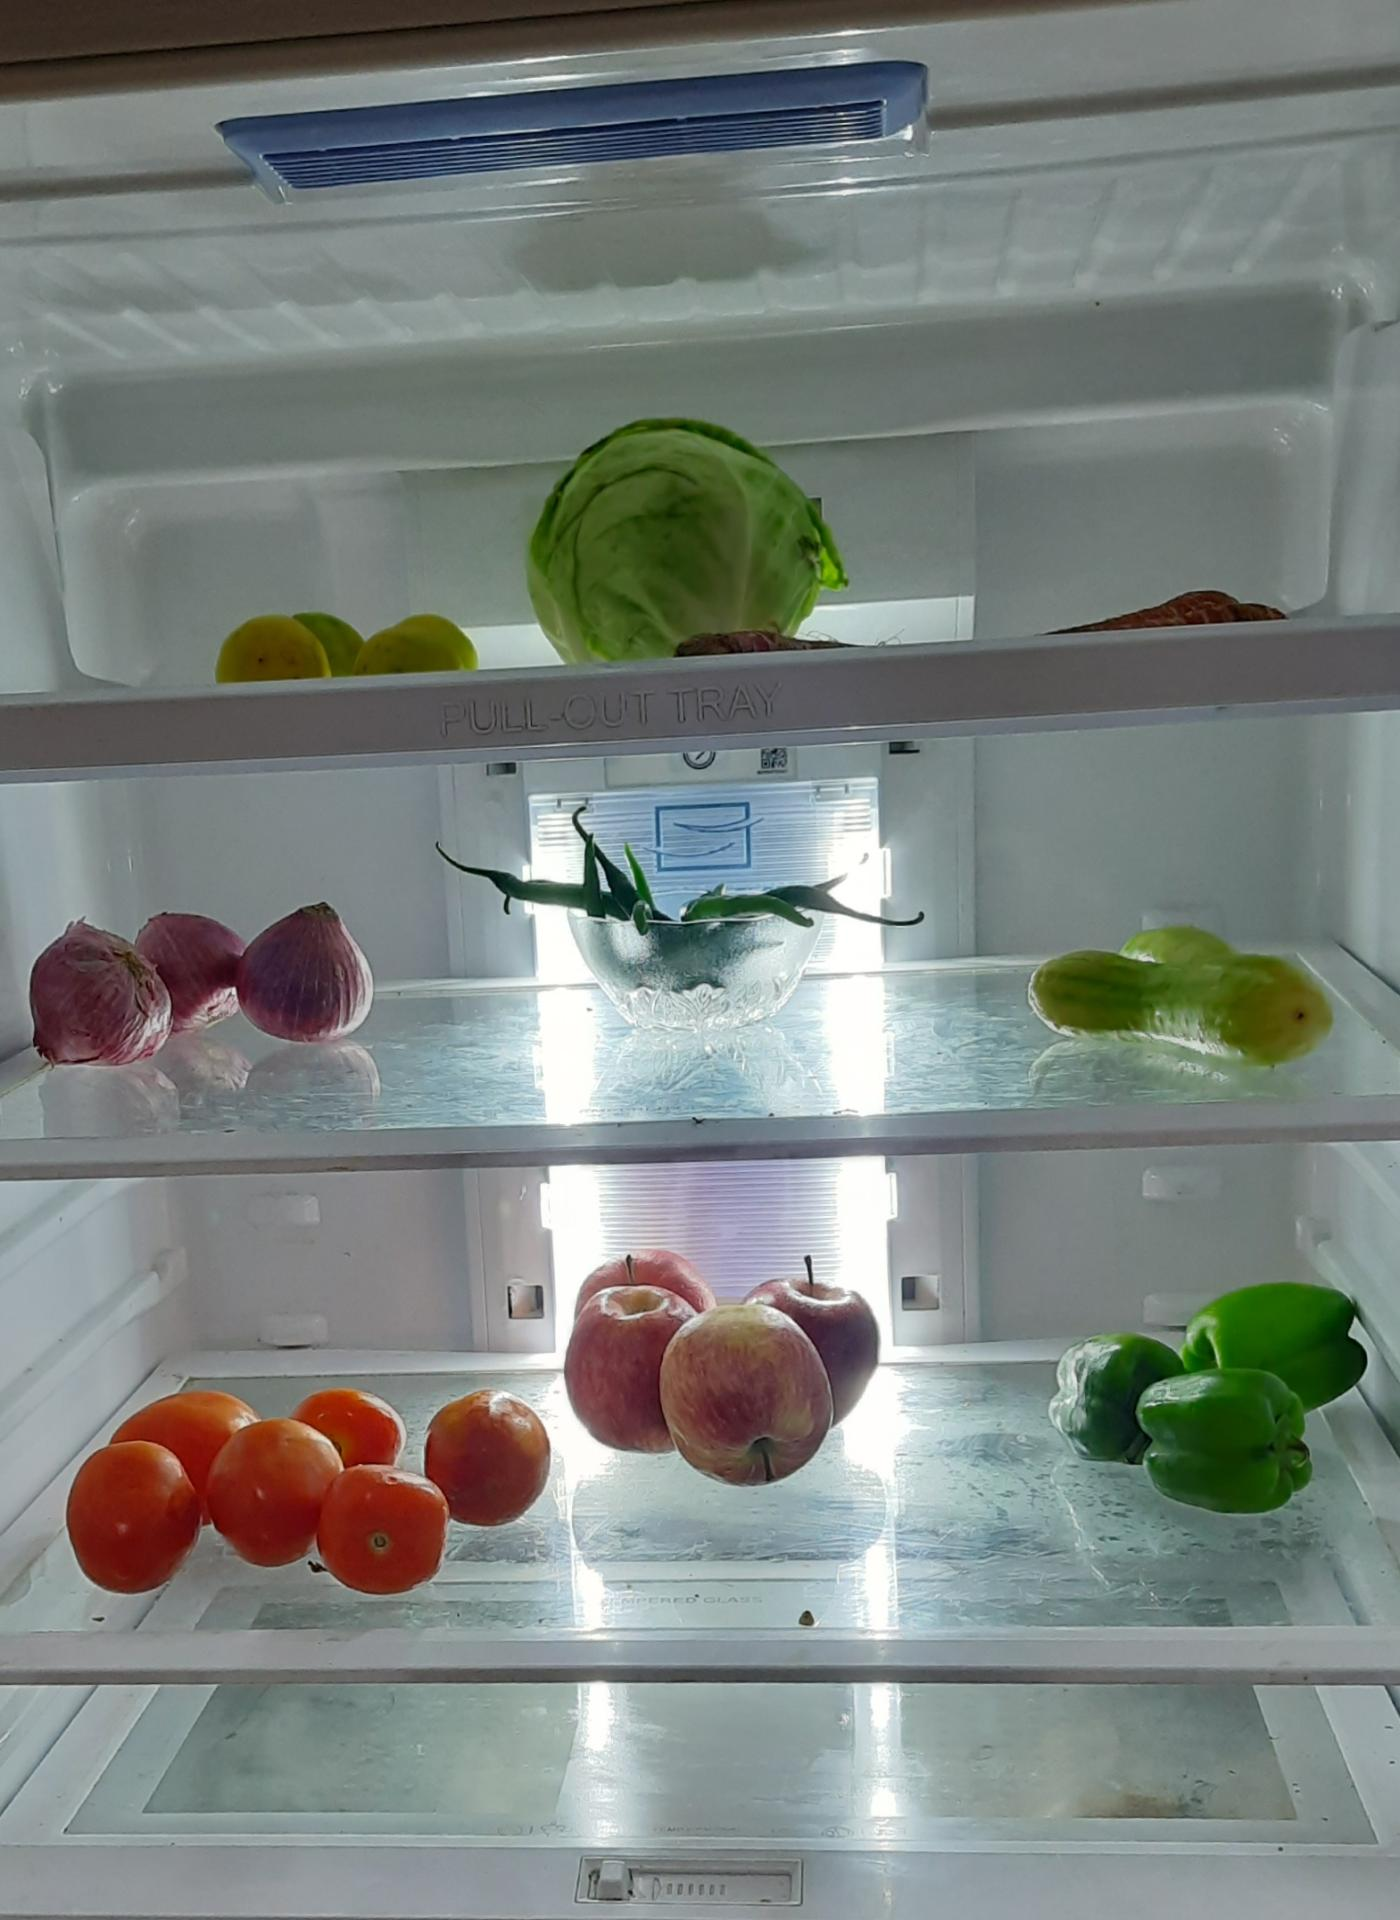apple: (571, 1240, 877, 1476)
cabbage: (528, 414, 847, 668)
capsicum: (1059, 1266, 1375, 1498)
chillies: (540, 812, 865, 994)
cucumber: (1032, 914, 1348, 1058)
lemon: (234, 602, 470, 671)
onion: (25, 896, 365, 1060)
tomato: (67, 1377, 553, 1588)
